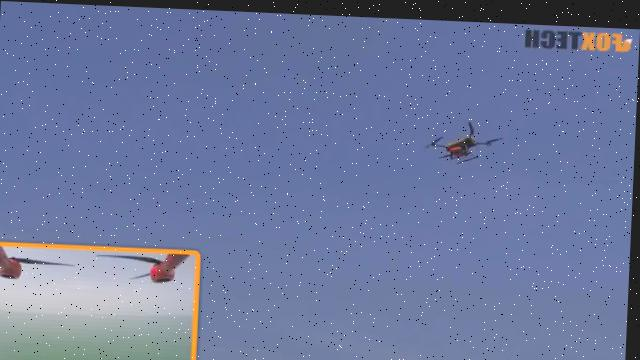drone: (417, 103, 515, 168)
